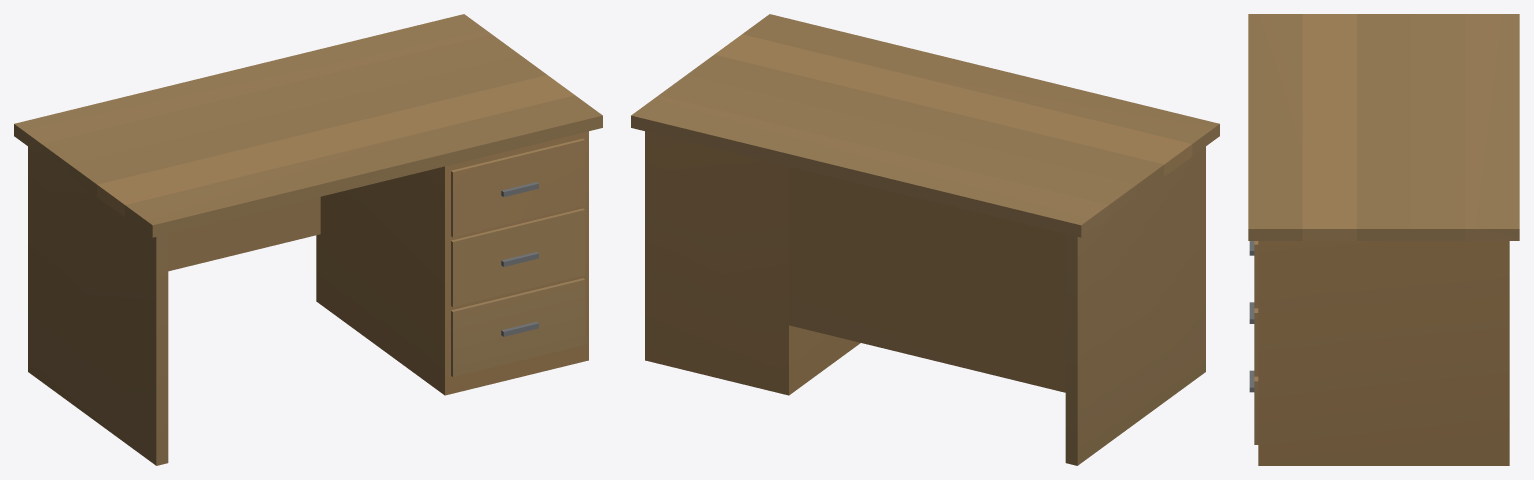
Rendered from table.desk.pine.glb.
3 views of the same model, side by side, from view 1: azimuth 30°, elevation 25°; view 2: azimuth 150°, elevation 25°; view 3: azimuth 270°, elevation 25° (orthographic). The views are drawn at different scales.
Parts seen in each view (by area): view 1: table_desk_pine; view 2: table_desk_pine; view 3: table_desk_pine.
Boxes of the visible parts, bbox=[...] form: table_desk_pine: bbox=[14, 14, 602, 465]; table_desk_pine: bbox=[631, 14, 1219, 465]; table_desk_pine: bbox=[1248, 14, 1519, 465].
Size of what is drawn, in the model's own units: 1.53 by 0.8 by 0.816.
